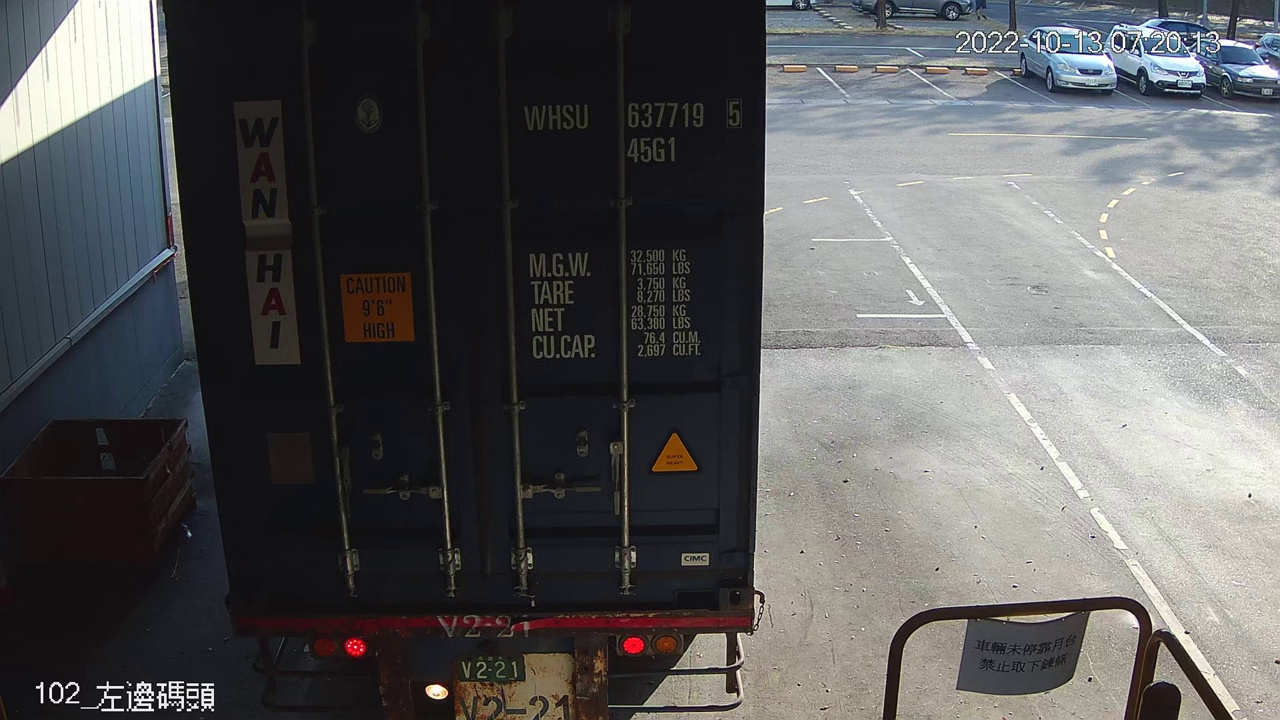container: (515, 92, 753, 171)
